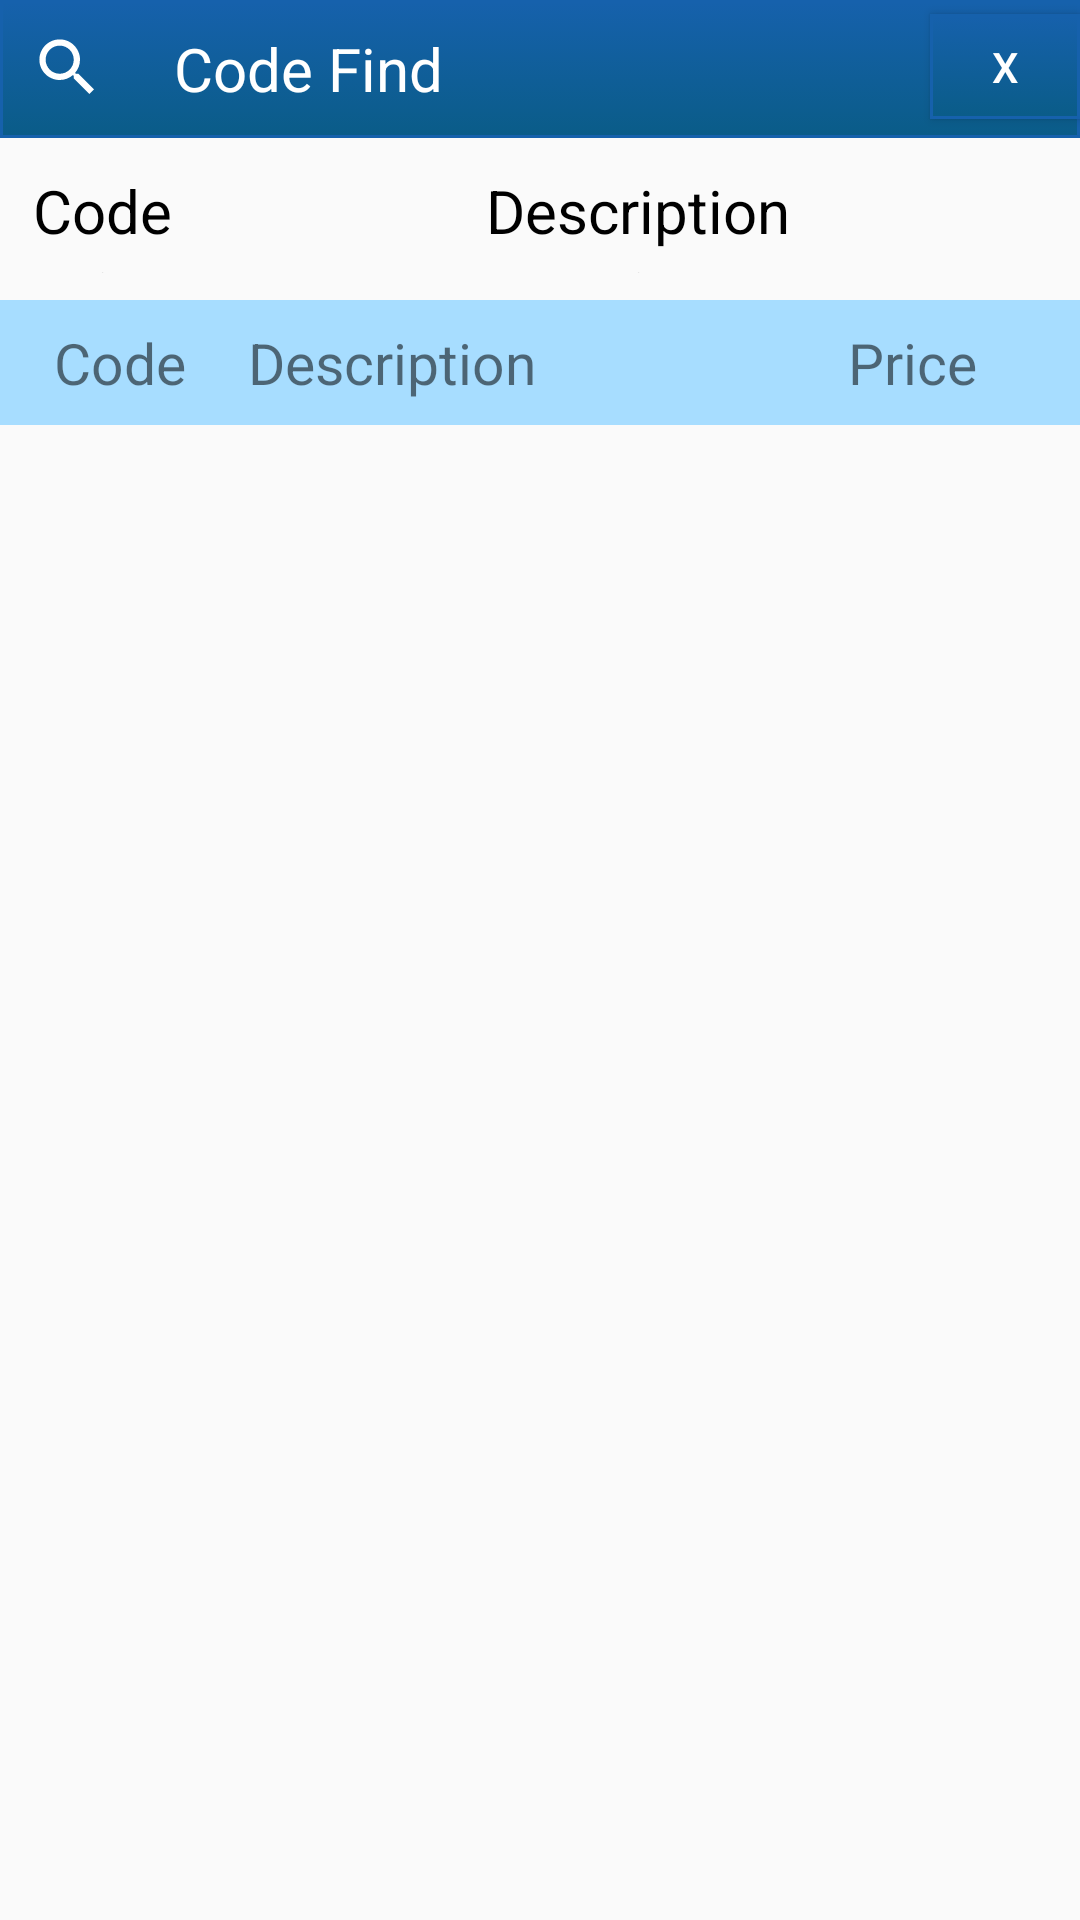

Where to tap for icons on this 1080*1920 app screen, as (x=x, y=y):
searchtablet: (x=67, y=62)
